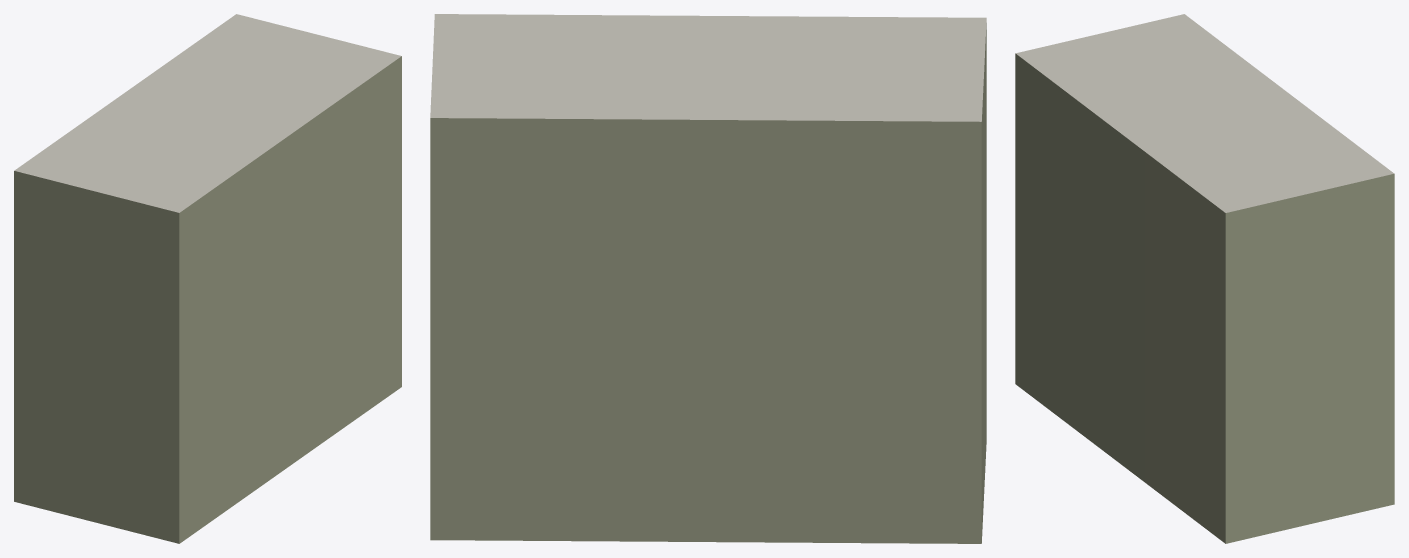
The model's file is nyc-1015258-0.glb.
3 views of the same model, side by side, from view 1: azimuth 30°, elevation 25°; view 2: azimuth 150°, elevation 25°; view 3: azimuth 270°, elevation 25° (orthographic). The views are drawn at different scales.
Parts seen in each view (by area): view 1: nyc-1015258-0; view 2: nyc-1015258-0; view 3: nyc-1015258-0.
Boxes of the visible parts, bbox=[...] form: nyc-1015258-0: bbox=[14, 14, 401, 543]; nyc-1015258-0: bbox=[430, 14, 986, 543]; nyc-1015258-0: bbox=[1015, 14, 1394, 543].
Size of the model in its own units: 19.12 by 14.81 by 15.38.
